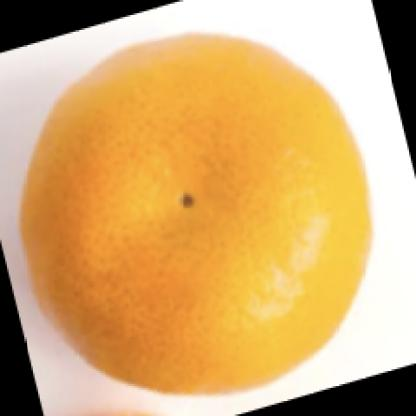orange: (18, 33, 374, 396)
